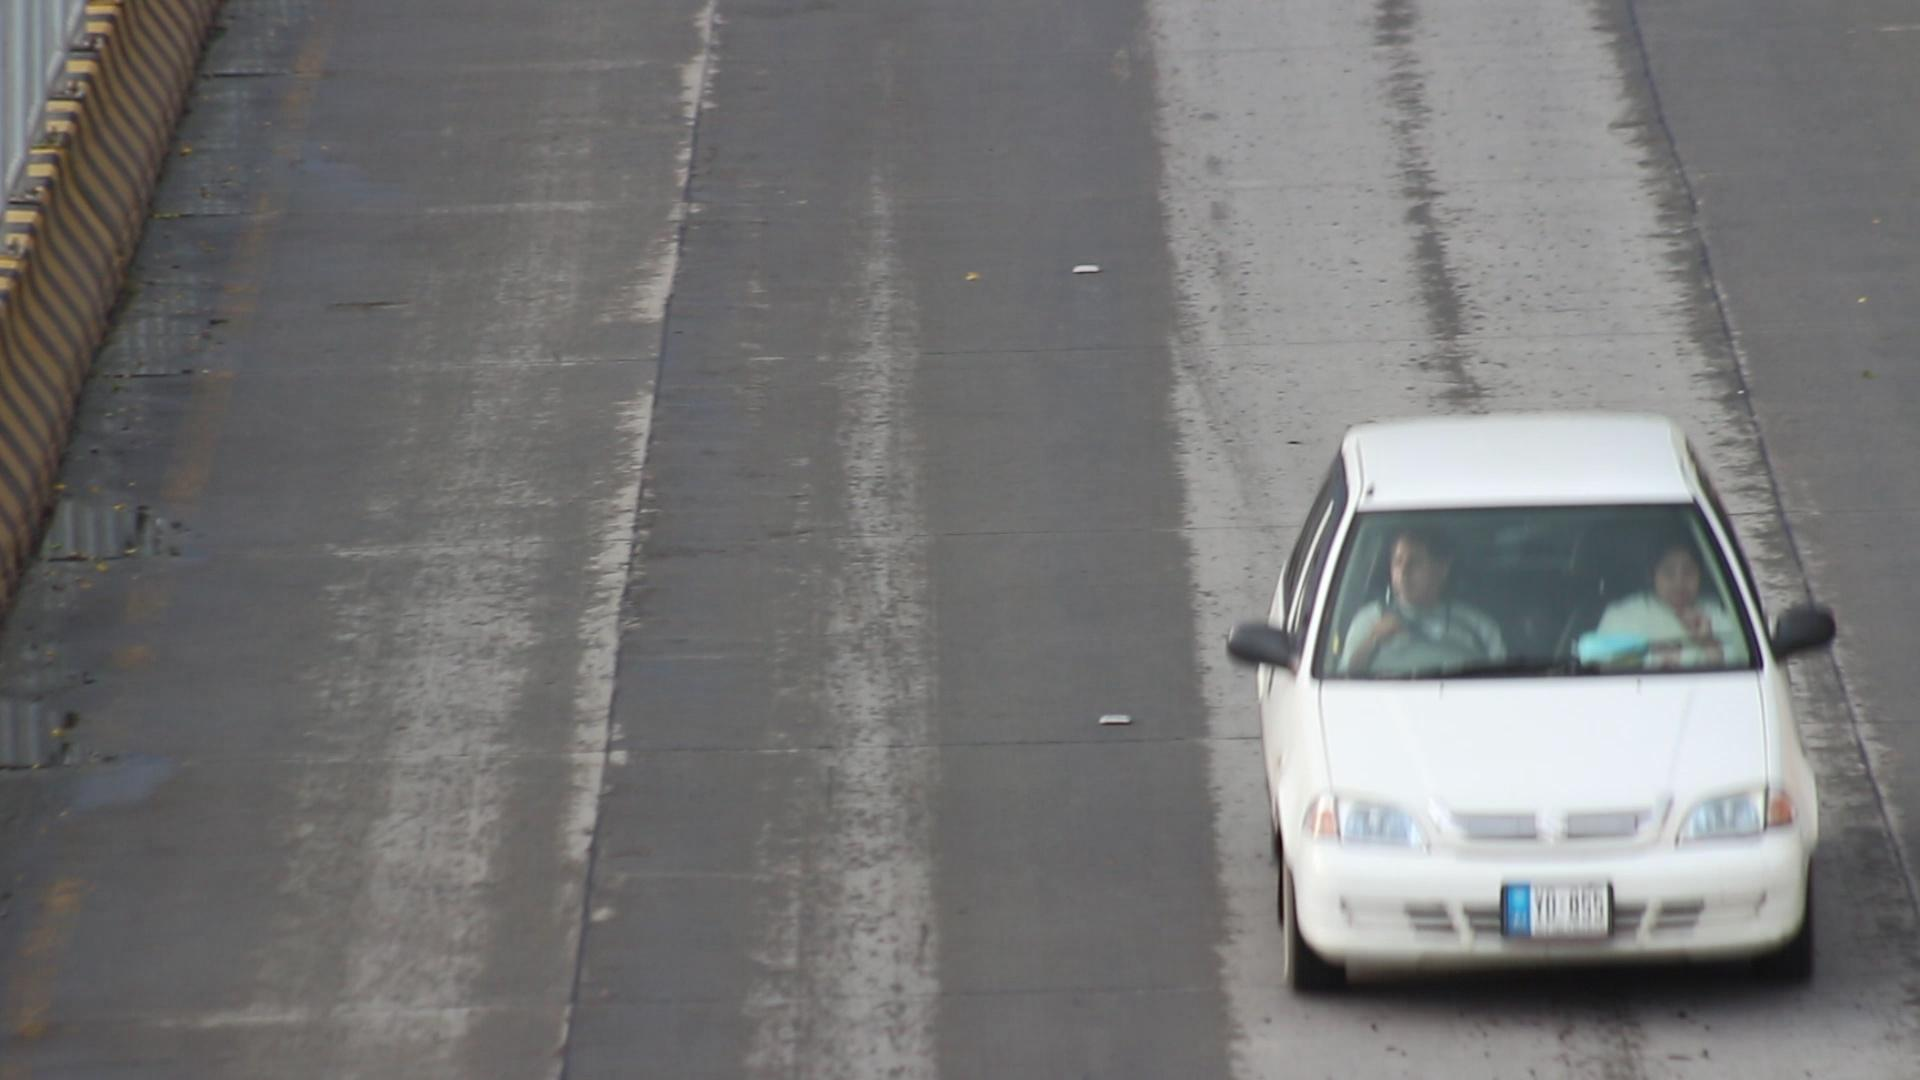windshield: (1298, 484, 1780, 694)
